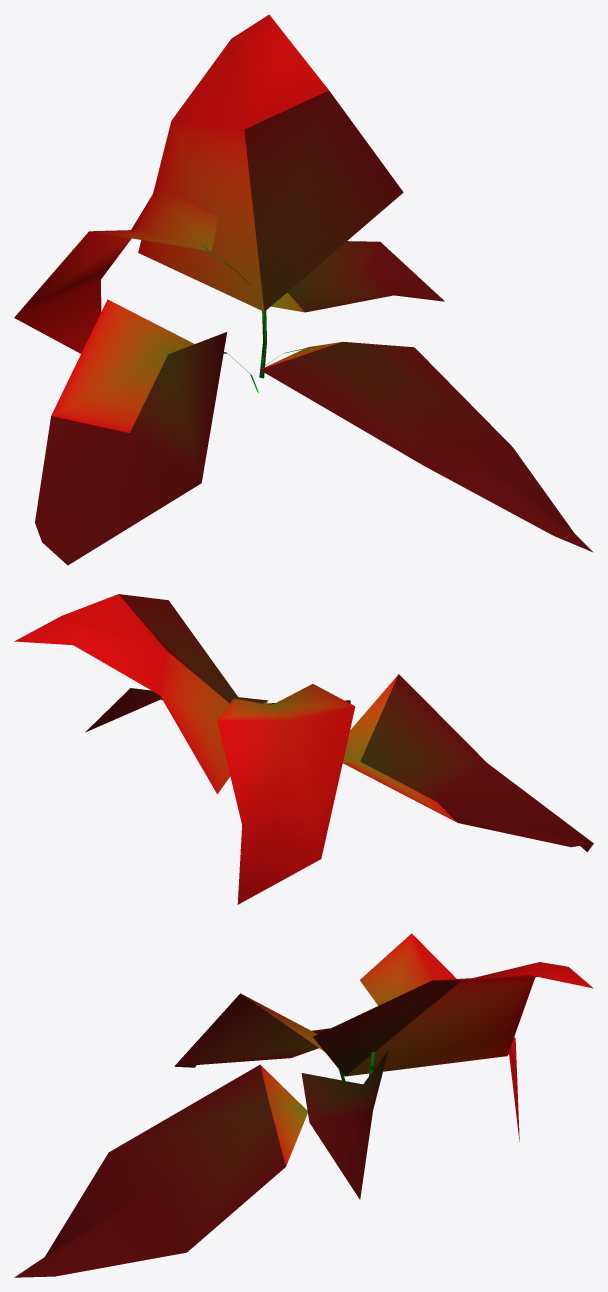
Rendered from Foilage.fbx.
3 views of the same model, one above another, from view 1: azimuth 30°, elevation 25°; view 2: azimuth 150°, elevation 25°; view 3: azimuth 270°, elevation 25° (orthographic). The views are drawn at different scales.
Visible parts, largest first — view 1: _26d2_Var1_LOD2; view 2: _26d2_Var1_LOD2; view 3: _26d2_Var1_LOD2.
Boxes of the visible parts, box(x1,y1,x2,y2) form: _26d2_Var1_LOD2: box(14, 14, 593, 565); _26d2_Var1_LOD2: box(14, 594, 593, 904); _26d2_Var1_LOD2: box(14, 933, 593, 1277).
Bounding box in the file's own units: 123 × 76.8 × 138.
